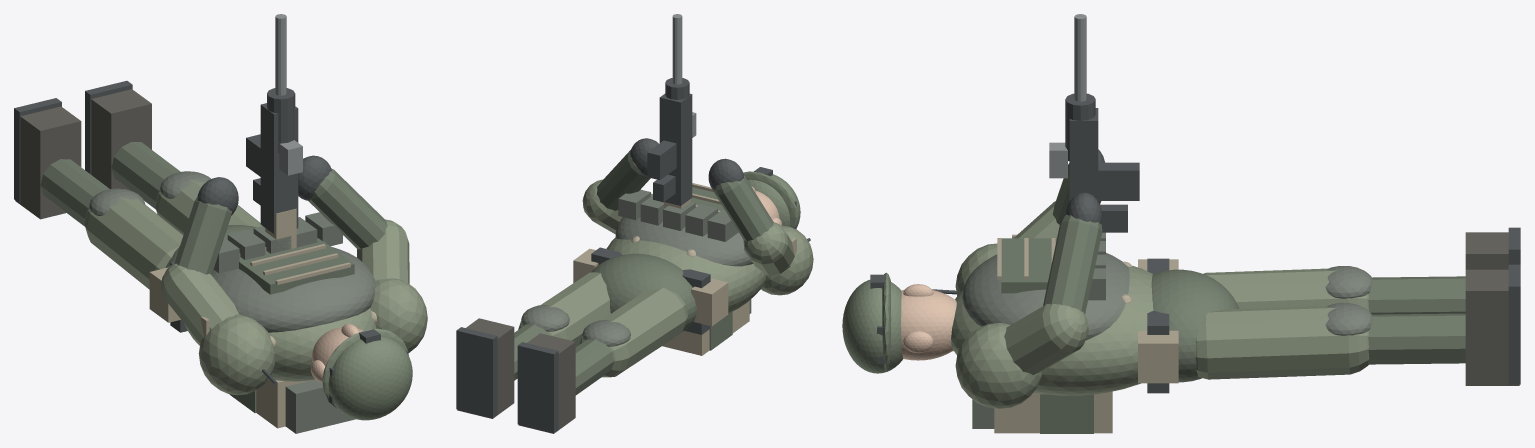
Rendered from dust_siege_soldat.glb.
3 renders of one model, left to right at view 1: azimuth 30°, elevation 25°; view 2: azimuth 150°, elevation 25°; view 3: azimuth 270°, elevation 25°, orthographic. The views are drawn at different scales.
Parts seen in each view (by area): view 1: chest_plate_carrier, helmet_shell, left_thigh, left_shoulder, left_boot, right_boot, left_upper_arm, rifle_receiver, right_forearm, right_shoulder, torso, left_forearm (+29 smaller); view 2: left_thigh, pelvis, right_boot_sole, left_boot_sole, torso, chest_plate_carrier, rifle_receiver, right_thigh, left_forearm, right_boot, left_boot, left_upper_arm (+26 smaller); view 3: right_thigh, torso, chest_plate_carrier, right_boot, right_shin, right_shoulder, pelvis, left_thigh, right_upper_arm, helmet_shell, right_forearm, left_shin (+20 smaller).
Boxes of the visible parts, bbox=[...] form: chest_plate_carrier: bbox=[212, 246, 375, 332]; helmet_shell: bbox=[328, 335, 412, 420]; left_thigh: bbox=[84, 192, 183, 289]; left_shoulder: bbox=[198, 314, 275, 395]; left_boot: bbox=[15, 106, 81, 219]; right_boot: bbox=[91, 89, 151, 190]; left_upper_arm: bbox=[161, 263, 239, 343]; rifle_receiver: bbox=[260, 103, 298, 233]; right_forearm: bbox=[308, 168, 387, 249]; right_shoulder: bbox=[370, 278, 427, 352]; torso: bbox=[184, 308, 376, 381]; left_forearm: bbox=[174, 197, 231, 274]; left_thigh: bbox=[579, 287, 687, 377]; pelvis: bbox=[591, 253, 696, 331]; right_boot_sole: bbox=[456, 327, 497, 417]; left_boot_sole: bbox=[517, 342, 558, 432]; torso: bbox=[606, 237, 765, 313]; chest_plate_carrier: bbox=[615, 217, 752, 266]; rifle_receiver: bbox=[659, 93, 692, 205]; right_thigh: bbox=[518, 272, 610, 346]; left_forearm: bbox=[714, 175, 773, 241]; right_boot: bbox=[457, 318, 514, 418]; left_boot: bbox=[518, 333, 575, 433]; left_upper_arm: bbox=[743, 222, 794, 275]; right_thigh: bbox=[1195, 305, 1369, 379]; torso: bbox=[951, 265, 1153, 395]; chest_plate_carrier: bbox=[962, 253, 1129, 340]; right_boot: bbox=[1465, 269, 1519, 385]; right_shin: bbox=[1368, 313, 1465, 364]; right_shoulder: bbox=[955, 323, 1042, 408]; pelvis: bbox=[1151, 269, 1239, 382]; left_thigh: bbox=[1203, 268, 1368, 310]; right_upper_arm: bbox=[1004, 303, 1088, 375]; helmet_shell: bbox=[842, 280, 902, 373]; right_forearm: bbox=[1043, 214, 1102, 313]; left_shin: bbox=[1368, 276, 1465, 314].
Size of the model in its own units: 0.8665 by 1.3 by 2.01.
